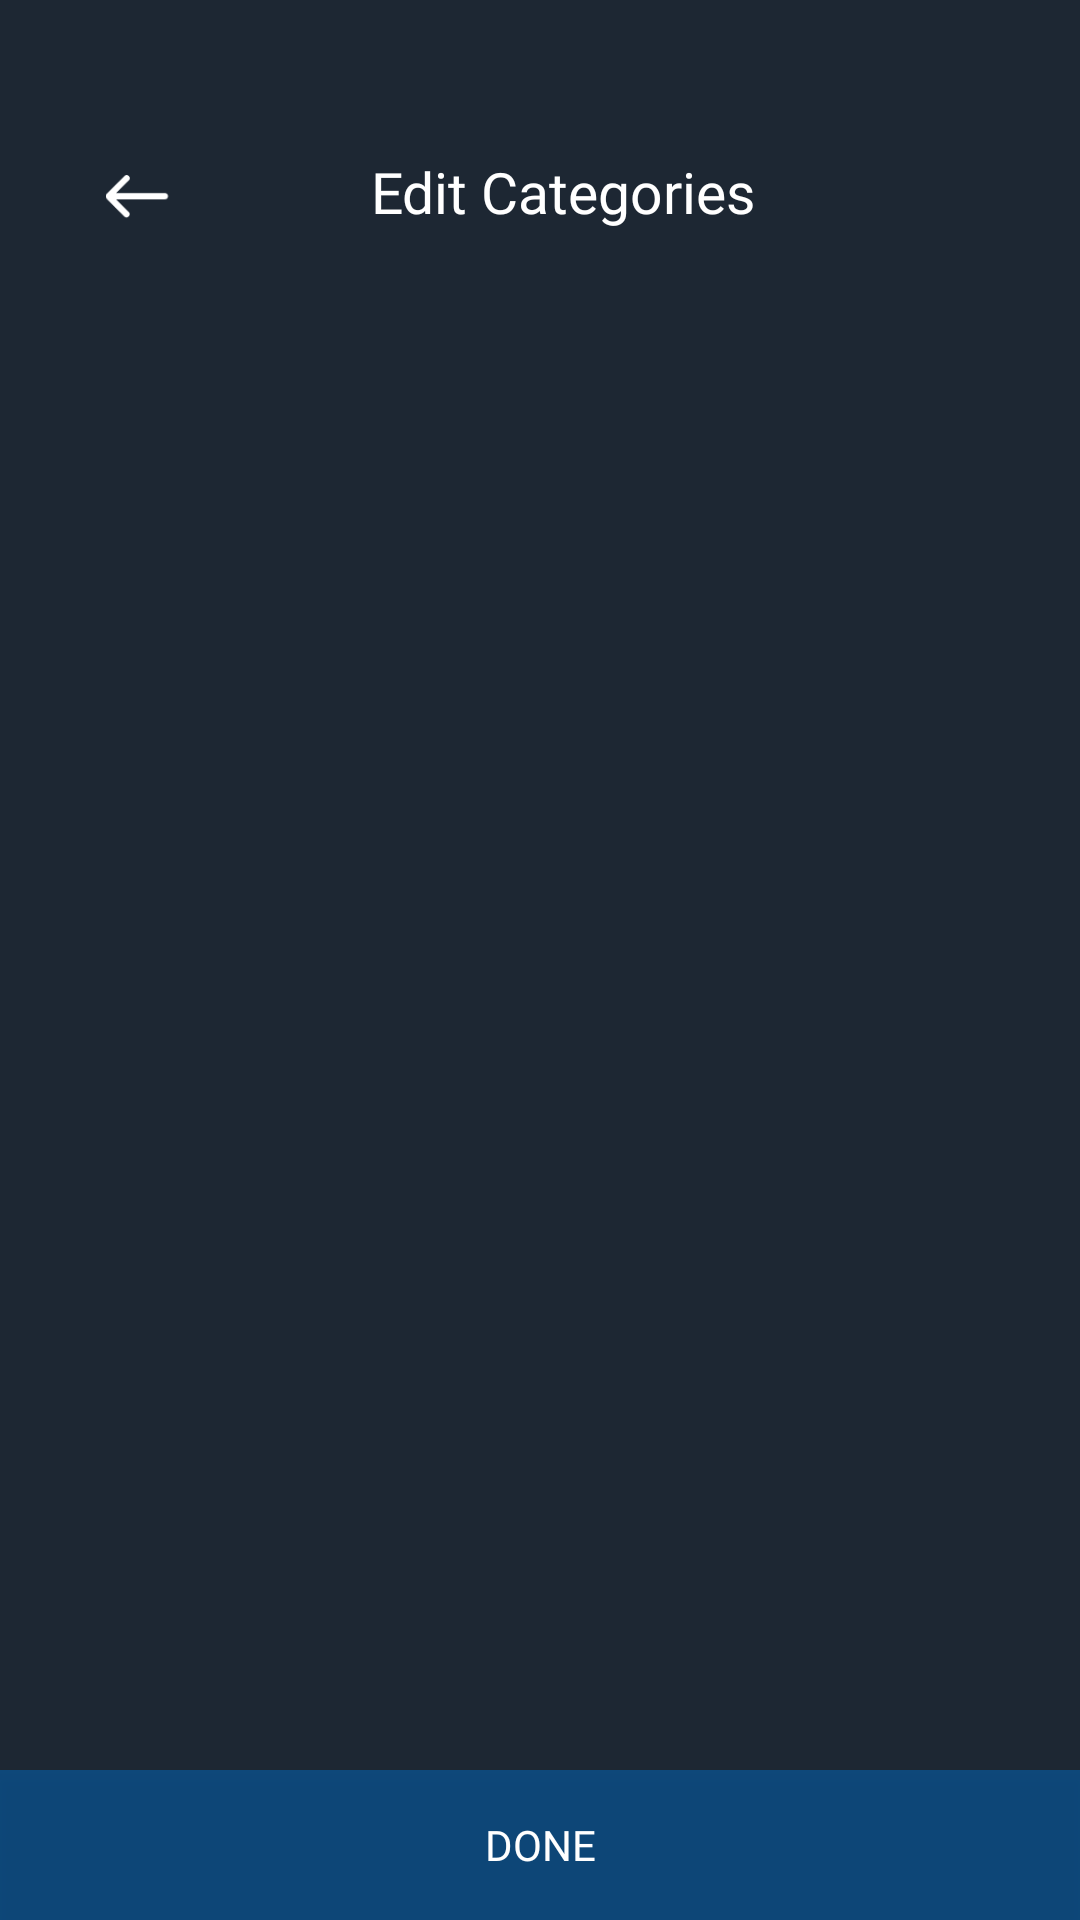

Named icons in this screenshot (1080x1920) and their bounding boxes, {"x1": x1, "y1": y1, "x2": x2, "y2": y2}:
arrow: {"x1": 106, "y1": 175, "x2": 169, "y2": 218}
